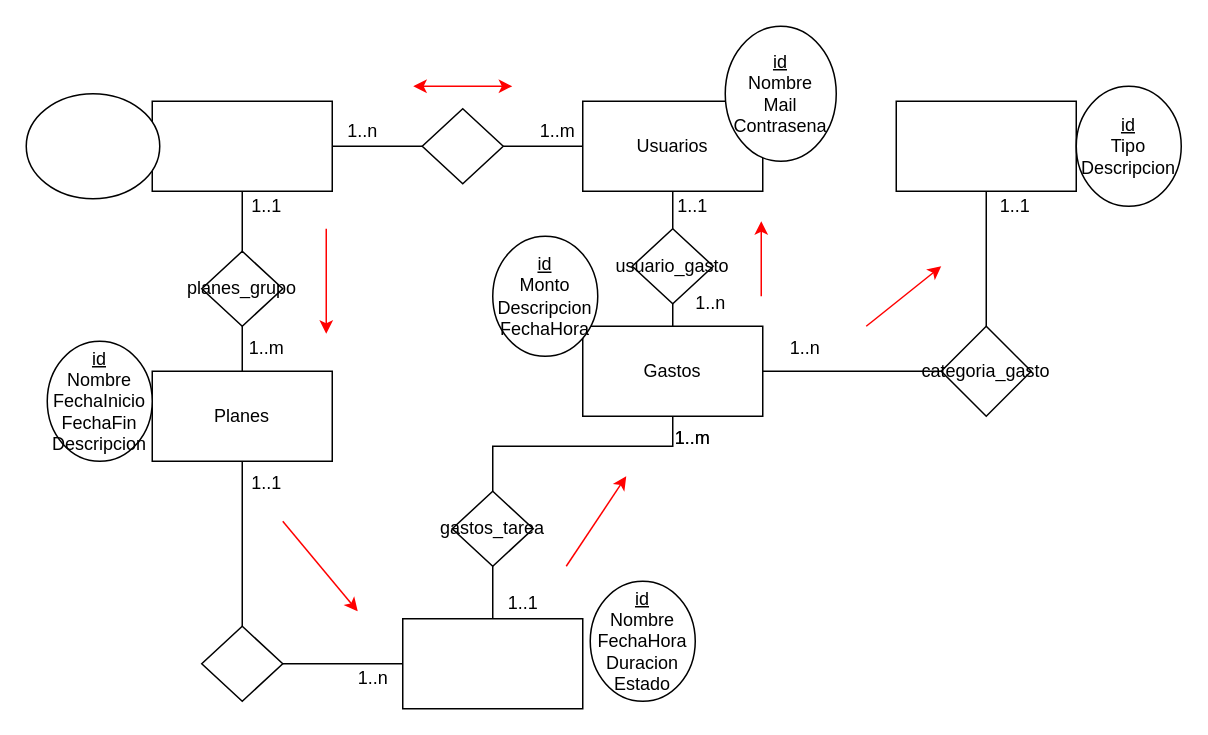
Image size: 1208x735. Some labels were removed from this diagram. The centre of each missing label's shape, as x and y in pixels:
"CategoriasGasto" goes at [985,145].
"Grupos" goes at [241,145].
"grupos_usuarios" goes at [462,145].
"id Nombre" goes at [92,145].
"Tareas" goes at [492,663].
"tareas_plan" goes at [241,663].
